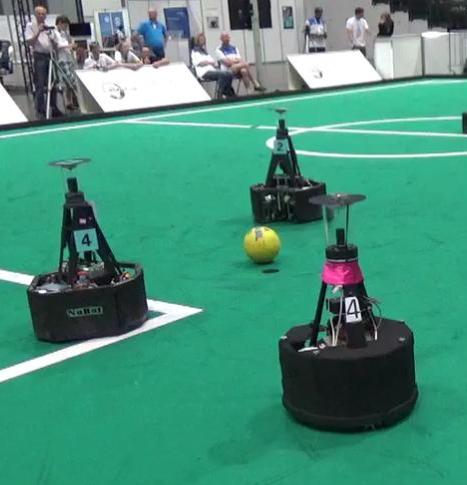robot: (275, 190, 427, 442), (20, 157, 153, 343), (243, 101, 343, 230)
